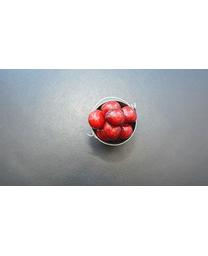cherry: (104, 121, 123, 141), (105, 108, 126, 125), (88, 110, 106, 128), (119, 105, 137, 123), (105, 101, 118, 115)
